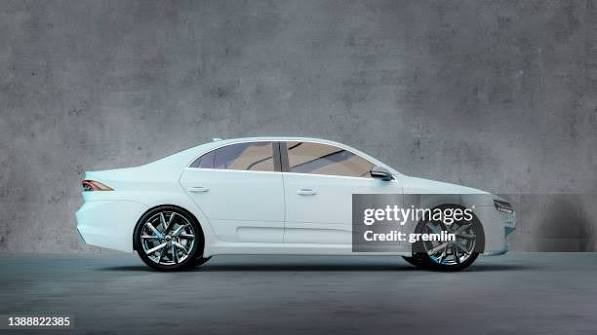car: (73, 128, 499, 270)
